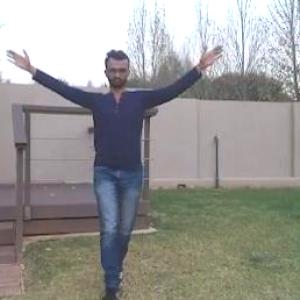takeoff: (3, 45, 220, 284)
